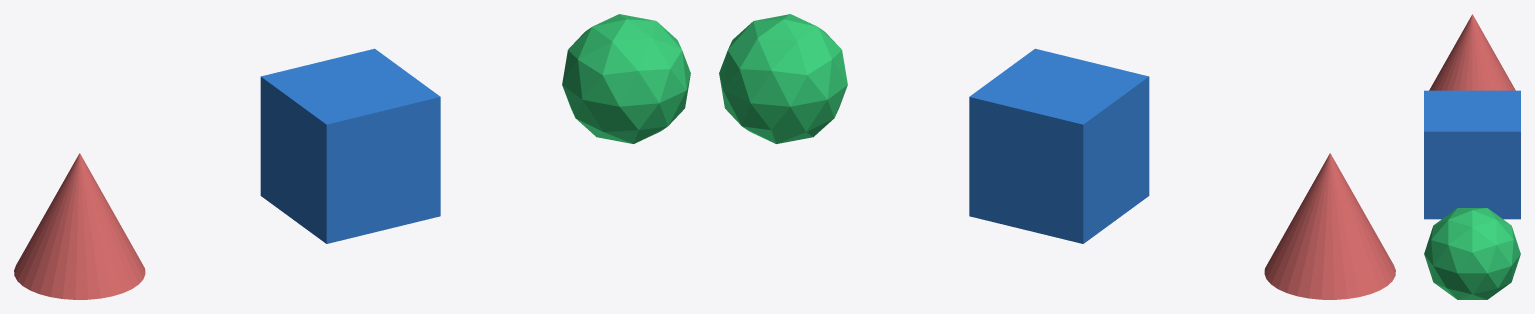
The picture shows the model from 3 angles, left to right: view 1: azimuth 30°, elevation 25°; view 2: azimuth 150°, elevation 25°; view 3: azimuth 270°, elevation 25°; orthographic projection. The views are drawn at different scales.
Visible parts, largest first — view 1: zengfangti, lengjiao, zuiti; view 2: zengfangti, lengjiao, zuiti; view 3: zengfangti, lengjiao, zuiti.
Boxes of the visible parts, x1,y1,x2,y2 form: zengfangti: [260, 48, 440, 243]; lengjiao: [562, 14, 690, 143]; zuiti: [14, 153, 145, 299]; zengfangti: [969, 48, 1149, 243]; lengjiao: [719, 14, 847, 143]; zuiti: [1264, 153, 1395, 299]; zengfangti: [1424, 90, 1520, 219]; lengjiao: [1424, 208, 1520, 299]; zuiti: [1429, 14, 1515, 90].
Size of the model in its own units: 11.53 by 2 by 2.
